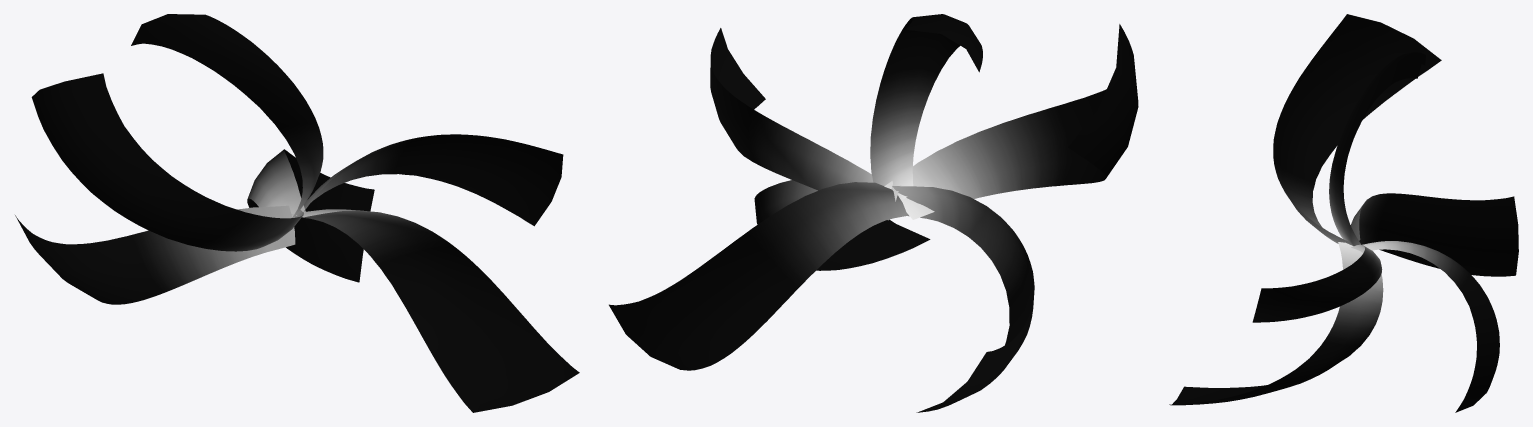
File: HElix_Meshes002.fbx
The picture shows the model from 3 angles, left to right: view 1: azimuth 30°, elevation 25°; view 2: azimuth 150°, elevation 25°; view 3: azimuth 270°, elevation 25°; orthographic projection. The views are drawn at different scales.
Parts seen in each view (by area): view 1: HElix_Meshes002; view 2: HElix_Meshes002; view 3: HElix_Meshes002.
Boxes of the visible parts, x1,y1,x2,y2 form: HElix_Meshes002: (15, 14, 579, 412); HElix_Meshes002: (609, 14, 1138, 412); HElix_Meshes002: (1169, 14, 1518, 412).
Size of the model in its own units: 67.37 by 50.59 by 59.12.
Materials: 1 (1 with a texture image).
